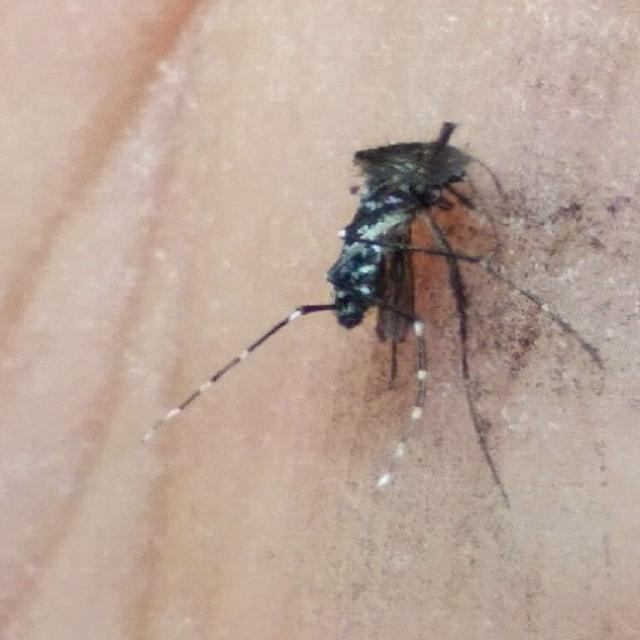albopictus: (150, 87, 569, 465)
